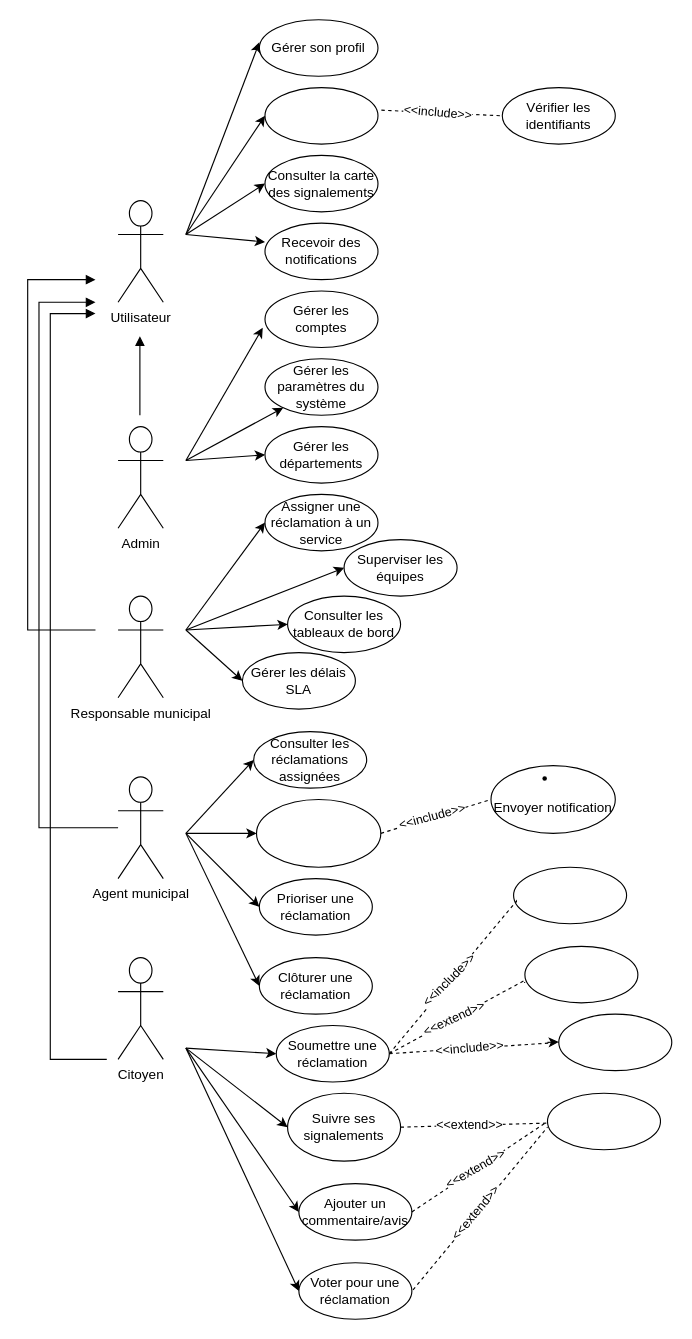
The diagram is 692 pixels wide and 1339 high, and some of its shapes have lost their labels. The centre of each missing label's shape, as x and y in pixels:
"Ajouter des médias" belongs at (581,974).
"Classifier via IA" belongs at (569,895).
"Consulter l’état d’une réclamation" belongs at (603,1121).
"Localiser une l'incident" belongs at (615,1042).
"Mettre à jour le statut d’une réclamation" belongs at (318,832).
"S'authentifier" belongs at (321,115).
